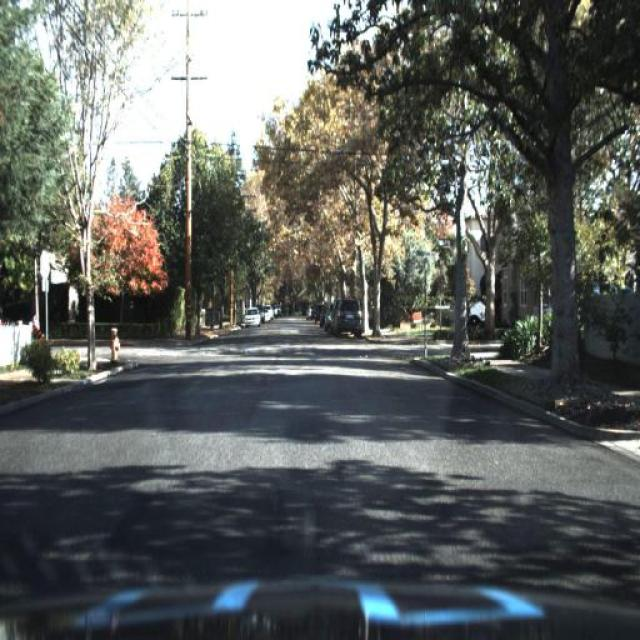car: (329, 296, 366, 340), (244, 302, 262, 329)
